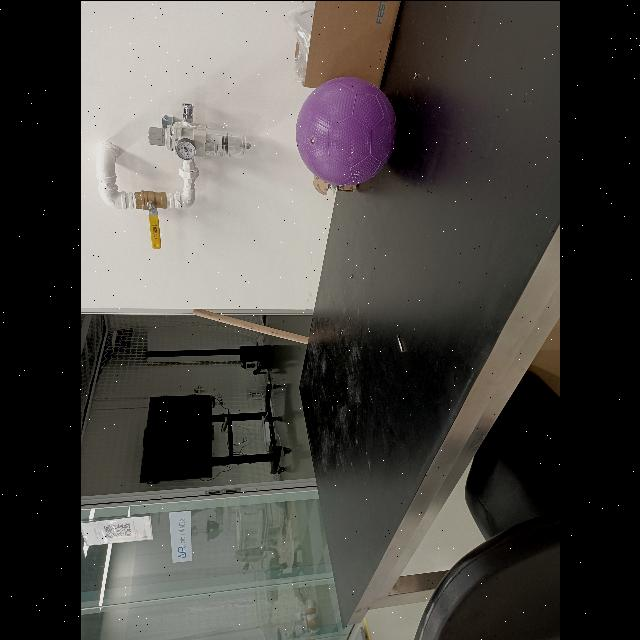P: (296, 76, 398, 182)
